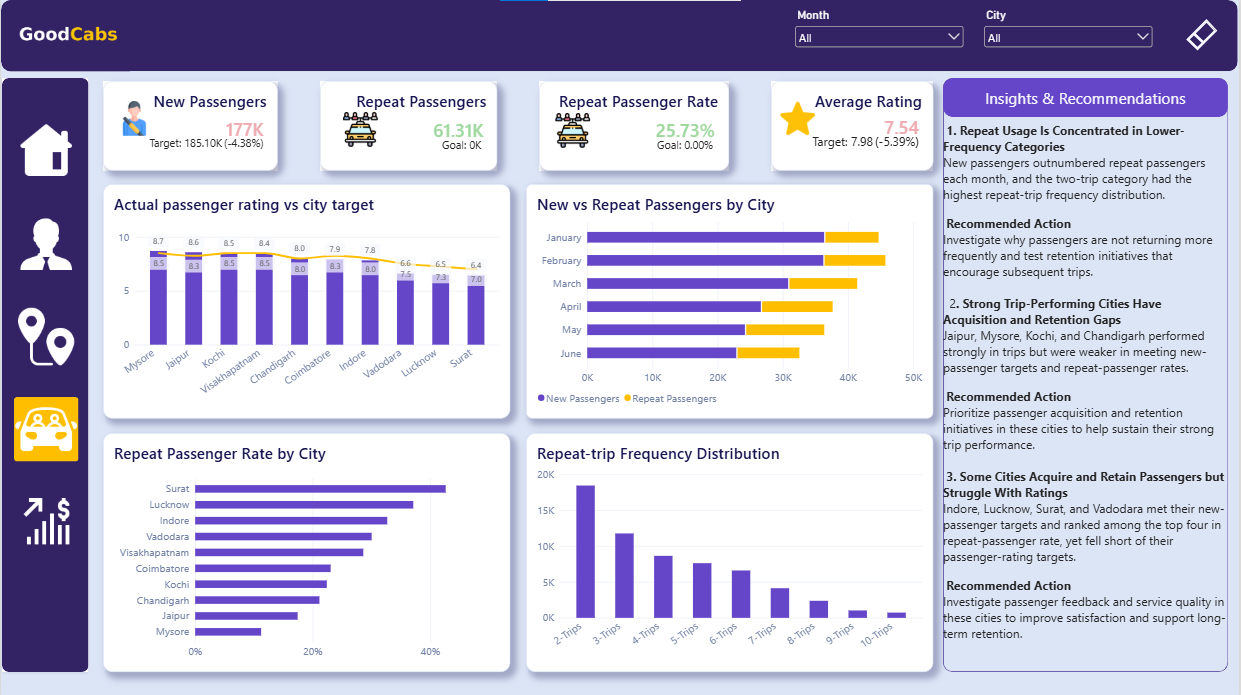

The dashboard page shown, as its layout file describes it:
{"tool":"powerbi","page":{"name":"Passenger Analysis","canvas":[1920,1080],"ordinal":3},"visuals":[{"type":"shape","box":[0,0,1919.3,110.6],"z":0},{"type":"shape","box":[2.2,121.4,134.5,921.7],"z":1000},{"type":"slicer","fields":{"Values":["dim_city.city_name"]},"box":[1521.3,13,271.1,86.7],"z":2000},{"type":"slicer","fields":{"Values":["dim_date.month_name"]},"box":[1227.5,13,271.1,86.7],"z":3000},{"type":"actionButton","box":[1815.2,13,88.9,86.7],"z":4000},{"type":"kpi","title":"New Passengers","fields":{"Goal":["KEY MEASURES.NEW PASSENGER TARGET KPI ALL"],"Indicator":["KEY MEASURES.TOTAL NEW PASSENGERS KPI ALL"],"TrendLine":["dim_date.start_of_month"]},"box":[158.3,125.8,271.1,138.8],"z":4000,"group":"g1"},{"type":"lineClusteredColumnComboChart","title":"Actual passenger rating vs city target","fields":{"Category":["dim_city.city_name"],"Y":["KEY MEASURES.AVG PASSENGER RATING"],"Y2":["KEY MEASURES.AVG PASSENGER RATING TARGET"]},"box":[158.3,286.3,632,364.3],"z":5000},{"type":"kpi","title":"Average Rating","fields":{"Goal":["KEY MEASURES.AVERAGE PASSENGER RATING TARGET KPI ALL"],"Indicator":["KEY MEASURES.AVERAGE PASSENGER RATING KPI ALL"],"TrendLine":["dim_date.start_of_month"]},"box":[1194.9,125.8,251.6,138.8],"z":6000,"group":"g4"},{"type":"clusteredColumnChart","title":"Repeat-trip Frequency Distribution","fields":{"Category":["dim_repeat_trip_distribution.trip_count"],"Y":["Sum(dim_repeat_trip_distribution.repeat_passenger_count)"]},"box":[815.4,672.3,632,370.8],"z":6000},{"type":"kpi","title":"Repeat Passenger Rate","fields":{"Goal":["KEY MEASURES.REPEAT PASSENGER RATE KPI LM ALL"],"Indicator":["KEY MEASURES.REPEAT PASSENGER RATE KPI ALL"],"TrendLine":["dim_date.start_of_month"]},"box":[834.9,125.8,294.9,138.8],"z":7000,"group":"g3"},{"type":"clusteredBarChart","title":"Repeat Passenger Rate by City","fields":{"Category":["dim_city.city_name"],"Y":["KEY MEASURES.REPEAT PASSENGER RATE"]},"box":[158.3,672.3,632,370.8],"z":7000},{"type":"shape","box":[1461.7,121.4,442.4,921.7],"z":8000},{"type":"image","box":[2.2,0,210.4,110.6],"z":9000},{"type":"group","id":"g1","title":"Group 6","box":[158.3,125.8,271.1,138.8],"z":10000},{"type":"barChart","title":"New vs Repeat Passengers by City","fields":{"Category":["dim_date.month_name"],"Y":["KEY MEASURES.TOTAL NEW PASSENGERS","KEY MEASURES.TOTAL REPEAT PASSENGERS"]},"box":[815.4,286.3,632,364],"z":11000},{"type":"group","id":"g2","title":"Group 1","box":[494.5,125.8,275.4,138.8],"z":12000},{"type":"group","id":"g3","title":"Group 1","box":[834.9,125.8,294.9,138.8],"z":13000},{"type":"group","id":"g4","title":"Group 3","box":[1194.9,125.8,251.6,138.8],"z":14000},{"type":"textbox","box":[1461.7,188.7,442.4,262.4],"z":15000},{"type":"shape","box":[1461.7,121.4,442.4,60.7],"z":16000},{"type":"textbox","box":[1461.7,457.6,442.4,249.4],"z":17000},{"type":"textbox","box":[1461.7,726.5,442.4,316.6],"z":18000},{"type":"kpi","title":"Repeat Passengers","fields":{"Goal":["KEY MEASURES.REPEAT PASSENGERS LM KPI ALL"],"Indicator":["KEY MEASURES.REPEAT PASSENGERS KPI ALL"],"TrendLine":["dim_date.start_of_month"]},"box":[494.5,125.8,275.4,138.8],"z":19000,"group":"g2"},{"type":"actionButton","box":[19.5,329.6,100,100],"z":19000},{"type":"actionButton","box":[19.5,472.8,100,100],"z":20000},{"type":"image","box":[180,156.2,54.2,54.2],"z":21000,"group":"g1"},{"type":"actionButton","box":[19.5,615.9,100,100],"z":21000},{"type":"actionButton","box":[19.5,759,100,100],"z":22000},{"type":"image","box":[1206.7,156.2,58.8,54.2],"z":23000,"group":"g4"},{"type":"actionButton","box":[19.5,186.5,100,100],"z":23000},{"type":"image","box":[529.6,174,54.2,54.2],"z":23002,"group":"g2"},{"type":"image","box":[858.1,175.7,58.1,54.2],"z":25000,"group":"g3"}]}

Visuals, with their boxes on the page's 1920x1080 design canvas (x1, y1, x2, y2). These are canvas units, not pixel positions in the 1241x695 screenshot, which may show the page scaled, cropped or inside an application window:
shape: left=0, top=0, right=1919, bottom=111
shape: left=2, top=121, right=137, bottom=1043
slicer - dim_city.city_name: left=1521, top=13, right=1792, bottom=100
slicer - dim_date.month_name: left=1228, top=13, right=1499, bottom=100
actionButton: left=1815, top=13, right=1904, bottom=100
"New Passengers" kpi: left=158, top=126, right=429, bottom=265
"Actual passenger rating vs city target" lineClusteredColumnComboChart: left=158, top=286, right=790, bottom=651
"Average Rating" kpi: left=1195, top=126, right=1446, bottom=265
"Repeat-trip Frequency Distribution" clusteredColumnChart: left=815, top=672, right=1447, bottom=1043
"Repeat Passenger Rate" kpi: left=835, top=126, right=1130, bottom=265
"Repeat Passenger Rate by City" clusteredBarChart: left=158, top=672, right=790, bottom=1043
shape: left=1462, top=121, right=1904, bottom=1043
image: left=2, top=0, right=213, bottom=111
"Group 6" group: left=158, top=126, right=429, bottom=265
"New vs Repeat Passengers by City" barChart: left=815, top=286, right=1447, bottom=650
"Group 1" group: left=494, top=126, right=770, bottom=265
"Group 1" group: left=835, top=126, right=1130, bottom=265
"Group 3" group: left=1195, top=126, right=1446, bottom=265
textbox: left=1462, top=189, right=1904, bottom=451
shape: left=1462, top=121, right=1904, bottom=182
textbox: left=1462, top=458, right=1904, bottom=707
textbox: left=1462, top=726, right=1904, bottom=1043
"Repeat Passengers" kpi: left=494, top=126, right=770, bottom=265
actionButton: left=20, top=330, right=120, bottom=430
actionButton: left=20, top=473, right=120, bottom=573
image: left=180, top=156, right=234, bottom=210
actionButton: left=20, top=616, right=120, bottom=716
actionButton: left=20, top=759, right=120, bottom=859
image: left=1207, top=156, right=1266, bottom=210
actionButton: left=20, top=186, right=120, bottom=286
image: left=530, top=174, right=584, bottom=228
image: left=858, top=176, right=916, bottom=230
